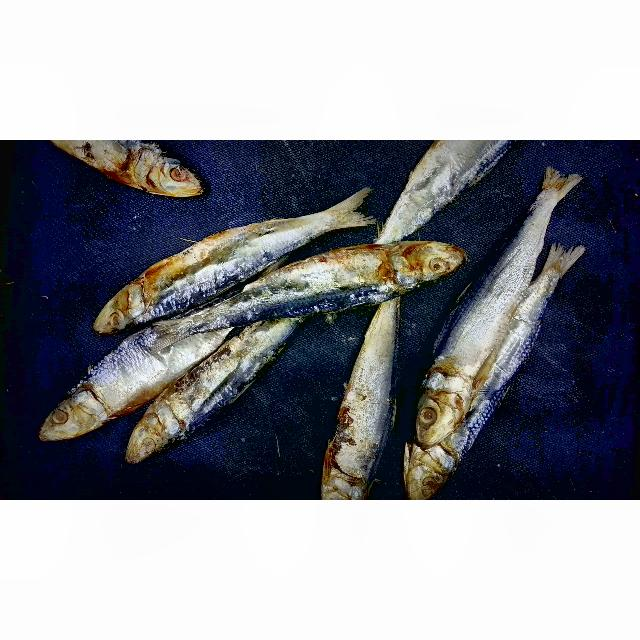Grade_B_Body: (434, 228, 551, 365), (310, 327, 402, 473), (247, 243, 388, 327), (163, 334, 285, 427)
Grade_B_Head: (25, 391, 126, 455), (392, 227, 467, 283), (94, 276, 161, 337), (395, 436, 455, 500), (147, 146, 208, 208), (412, 386, 470, 446)
Grade_B_Tail: (518, 228, 591, 358), (273, 182, 380, 253), (151, 286, 262, 345), (498, 158, 580, 236), (106, 407, 196, 478)
